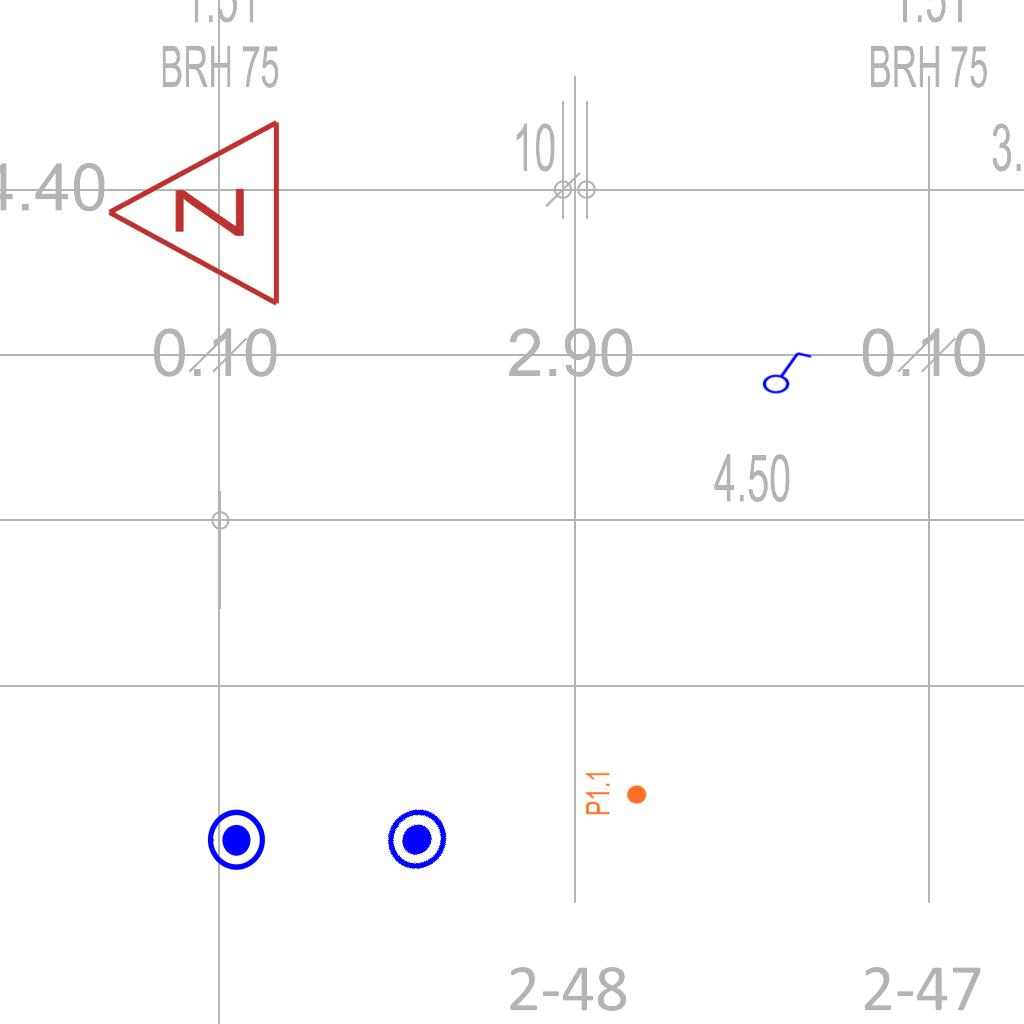Ausschalter: (757, 347, 813, 395)
Downlight_LED_Einbauleuchten_Flur_2: (584, 770, 648, 816)
Taster: (369, 792, 461, 884), (201, 807, 267, 873)
Zimmersignalleuchte: (94, 117, 294, 313)
